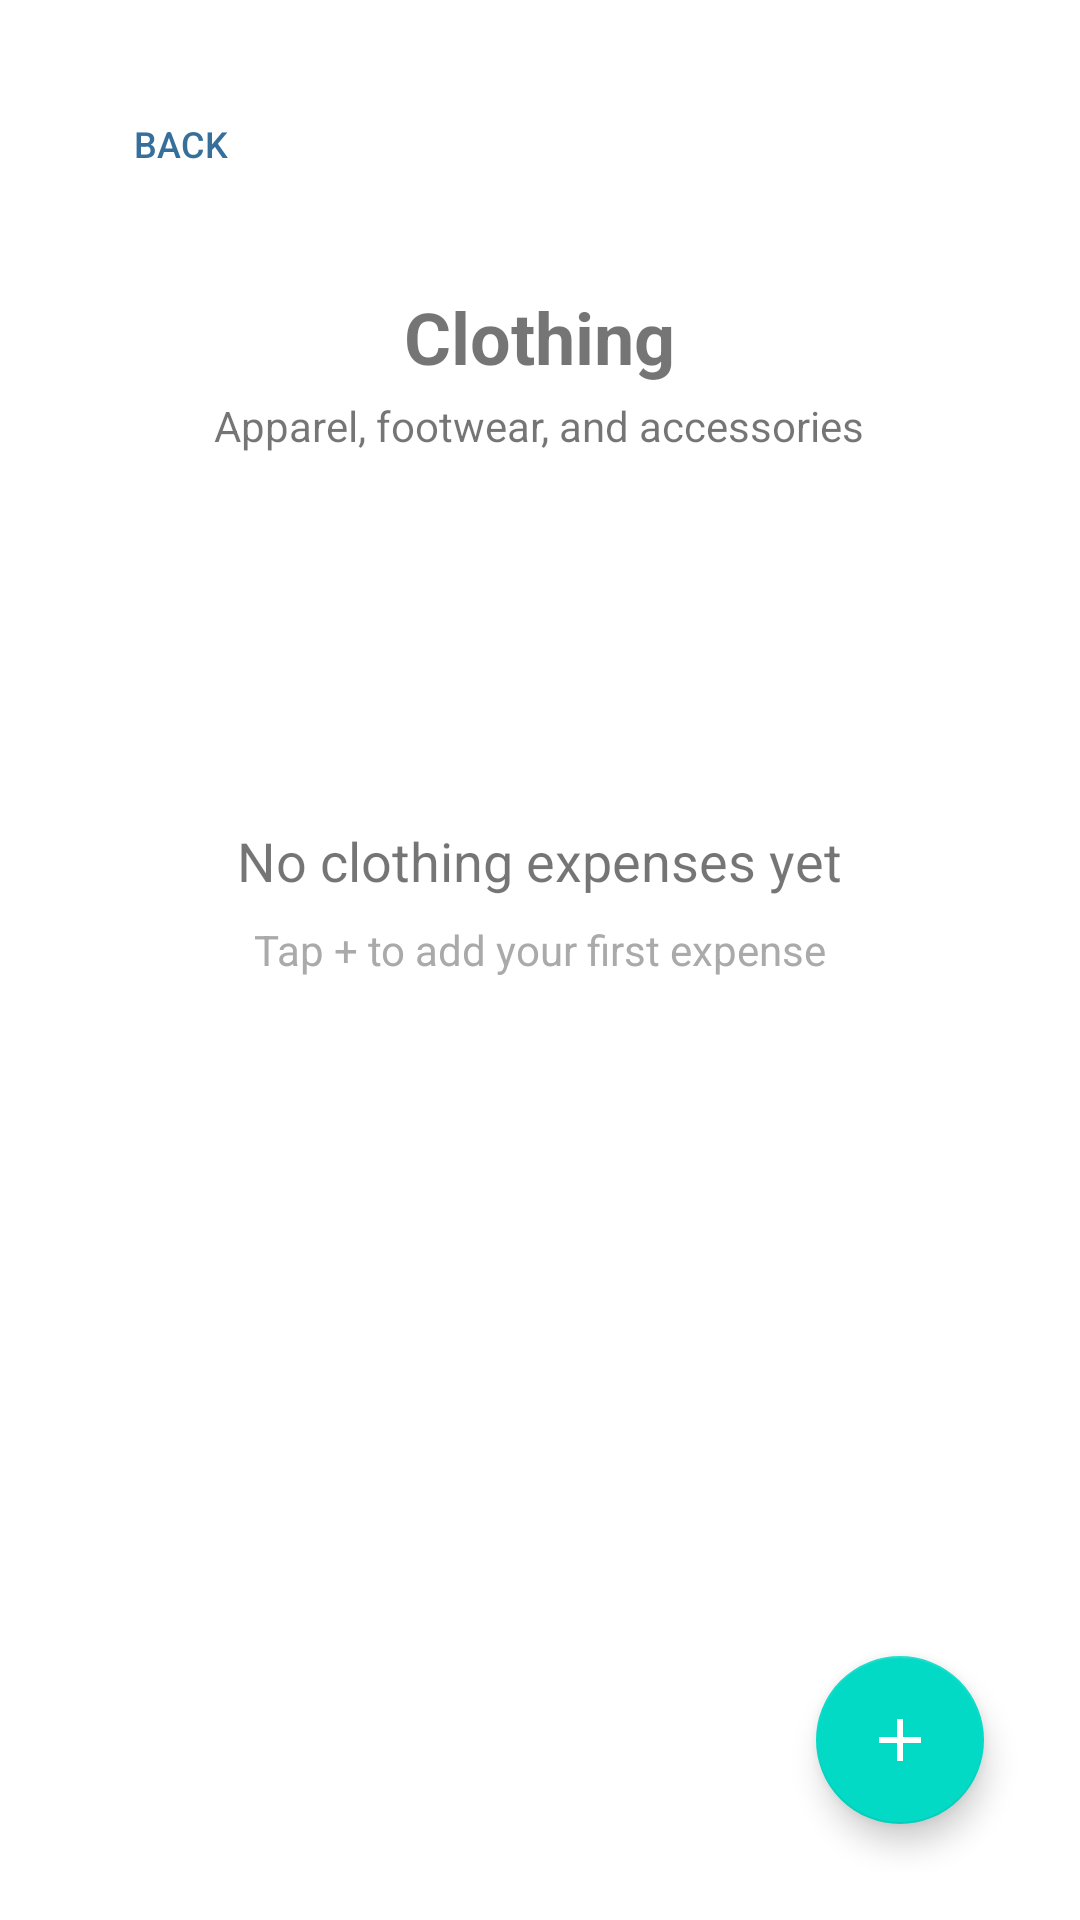

Where to tap for icons on this 1080*1920 app screen, as (x,y):
Add expense: (900,1740)
